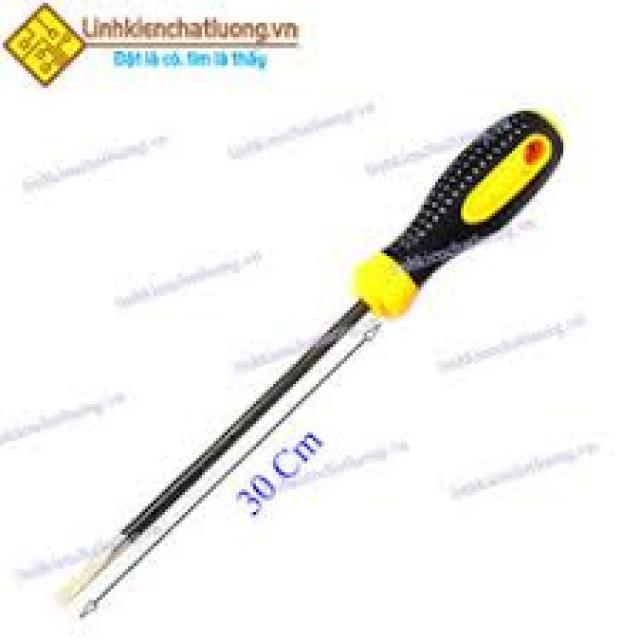screwdriver: (49, 109, 564, 613)
